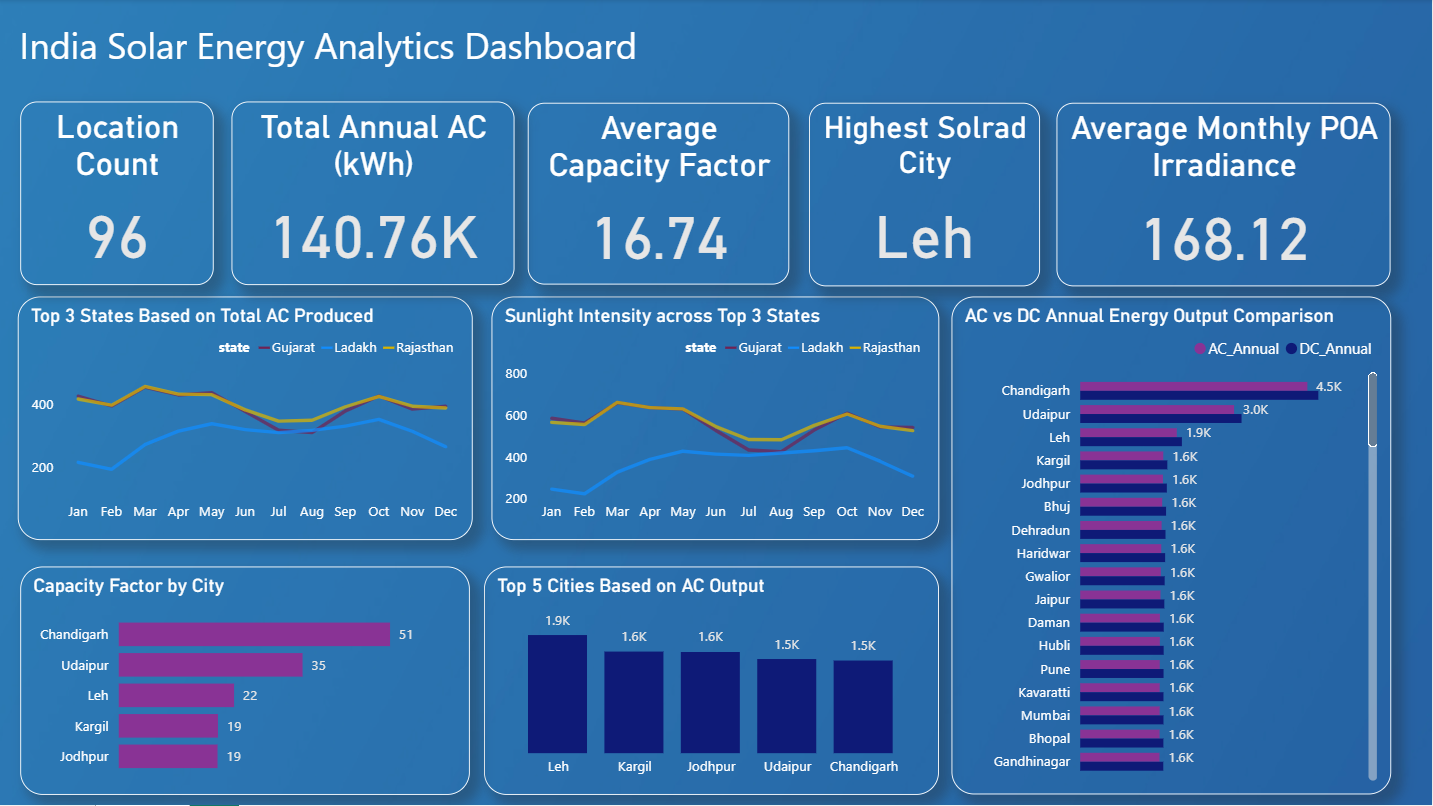

This screenshot's page, from the dashboard's own definition file:
{"tool":"powerbi","page":{"name":"Page 1","canvas":[1280,720],"ordinal":0},"visuals":[{"type":"lineChart","title":"Top 3 States Based on Total AC Produced","fields":{"Y":["Sum(fact_monthly.ac_monthly)"],"Series":["dim_location.state"],"Category":["fact_monthly.MonthName"]},"box":[16.2,266.2,406.2,217.5],"z":0},{"type":"textbox","box":[13.8,15,626.2,77.5],"z":1},{"type":"lineChart","title":"Sunlight Intensity across Top 3 States","fields":{"Y":["Sum(fact_monthly.poa_monthly)"],"Series":["dim_location.state"],"Category":["fact_monthly.MonthName"]},"box":[440,266.2,400,217.5],"z":2},{"type":"columnChart","title":"Top 5 Cities Based on AC Output","fields":{"Category":["dim_location.city"],"Y":["Avg(fact_annual.ac_annual)"]},"box":[433.8,507.5,406.2,203.8],"z":3},{"type":"card","title":"Location Count","fields":{"Values":["dim_location.total_locations"]},"box":[18.8,91.2,172.5,163.8],"z":5},{"type":"card","title":"Total Annual AC (kWh)","fields":{"Values":["Sum(fact_annual.ac_annual)"]},"box":[207.5,91.2,252.5,163.8],"z":6},{"type":"card","title":"Highest Solrad City","fields":{"Values":["Min(dim_location.city)"]},"box":[723.8,92.5,206.2,163.8],"z":7},{"type":"card","title":"Average Monthly POA Irradiance","fields":{"Values":["Avg(fact_monthly.poa_monthly)"]},"box":[945,92.5,298.8,163.8],"z":8},{"type":"barChart","title":"Capacity Factor by City","fields":{"Category":["dim_location.city"],"Y":["Sum(fact_annual.capacity_factor)"]},"box":[18.8,507.5,401.2,203.8],"z":9},{"type":"card","title":"Average Capacity Factor","fields":{"Values":["Avg(fact_annual.capacity_factor)"]},"box":[483.8,92.5,222.5,163.8],"z":10},{"type":"clusteredBarChart","title":"AC vs DC Annual Energy Output Comparison","fields":{"Category":["dim_location.city"],"Y":["fact_monthly.AC_Annual","fact_monthly.DC_Annual"]},"box":[851.2,266.2,392.5,445],"z":11}]}

Visuals, with their boxes in screenshot pixels (x1, y1, x2, y2), scaled from the page's 1280x720 canvas onto the 1433x806 screenshot:
"Top 3 States Based on Total AC Produced" lineChart: crop(18, 298, 473, 541)
textbox: crop(15, 17, 716, 104)
"Sunlight Intensity across Top 3 States" lineChart: crop(493, 298, 940, 541)
"Top 5 Cities Based on AC Output" columnChart: crop(486, 568, 940, 796)
"Location Count" card: crop(21, 102, 214, 285)
"Total Annual AC (kWh)" card: crop(232, 102, 515, 285)
"Highest Solrad City" card: crop(810, 104, 1041, 287)
"Average Monthly POA Irradiance" card: crop(1058, 104, 1392, 287)
"Capacity Factor by City" barChart: crop(21, 568, 470, 796)
"Average Capacity Factor" card: crop(542, 104, 791, 287)
"AC vs DC Annual Energy Output Comparison" clusteredBarChart: crop(953, 298, 1392, 796)
